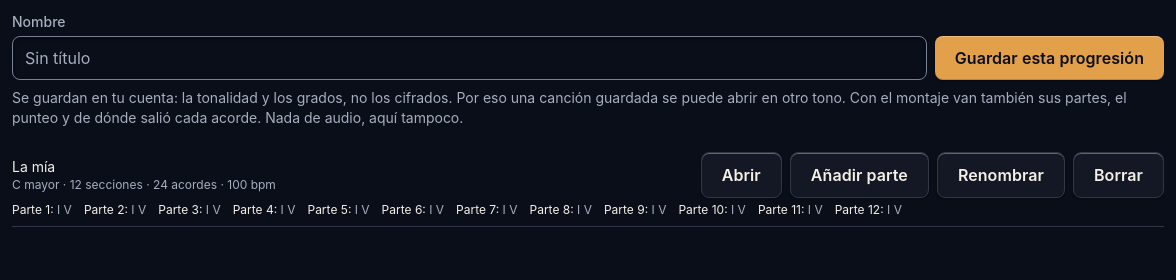
el tope de partes › una canción llena no admite otra, y se dice cuál es el tope
Expected: the text "La mía" is shown, [12,158,55,175]
Click the button "Añadir parte".
click(859, 175)  # box [790,152,929,198]
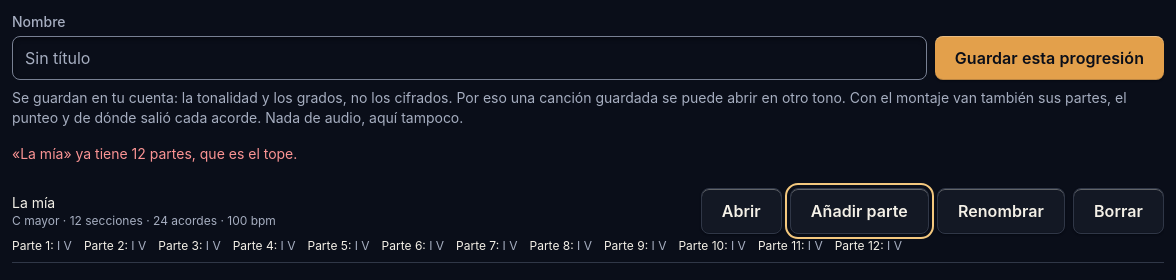
Expected: the text "«La mía» ya tiene 12 partes, que es el tope." is shown, [12,145,297,162]
